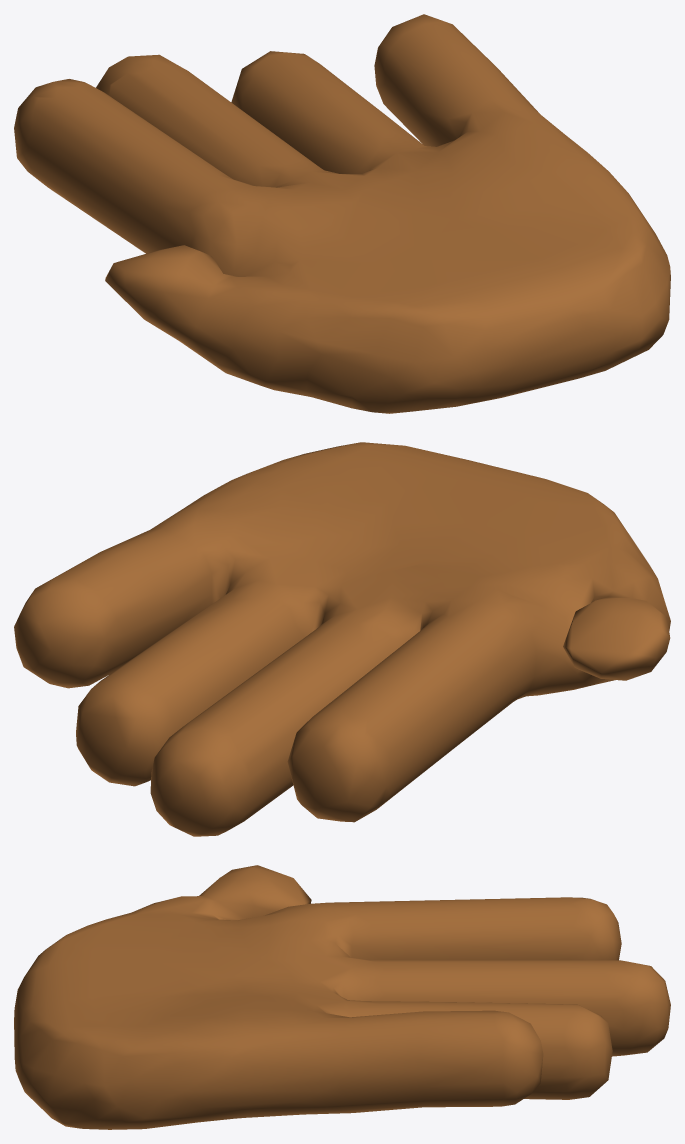
File: extended_hand_left.fbx
3 views of the same model, one above another, from view 1: azimuth 30°, elevation 25°; view 2: azimuth 150°, elevation 25°; view 3: azimuth 270°, elevation 25° (orthographic). The views are drawn at different scales.
Visible parts, largest first — view 1: mesh; view 2: mesh; view 3: mesh.
Boxes of the visible parts, left/top/right/bottom form: mesh: left=14, top=14, right=670, bottom=413; mesh: left=14, top=442, right=670, bottom=836; mesh: left=14, top=865, right=670, bottom=1129.
Size of the model in its own units: 6.41 by 1.82 by 8.51.
